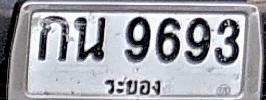3: (215, 18, 240, 64)
6: (156, 17, 180, 62)
9: (125, 16, 150, 62), (185, 16, 210, 62)
A01: (37, 14, 68, 60)
A25: (74, 16, 105, 61)
RYG: (102, 76, 164, 97)
